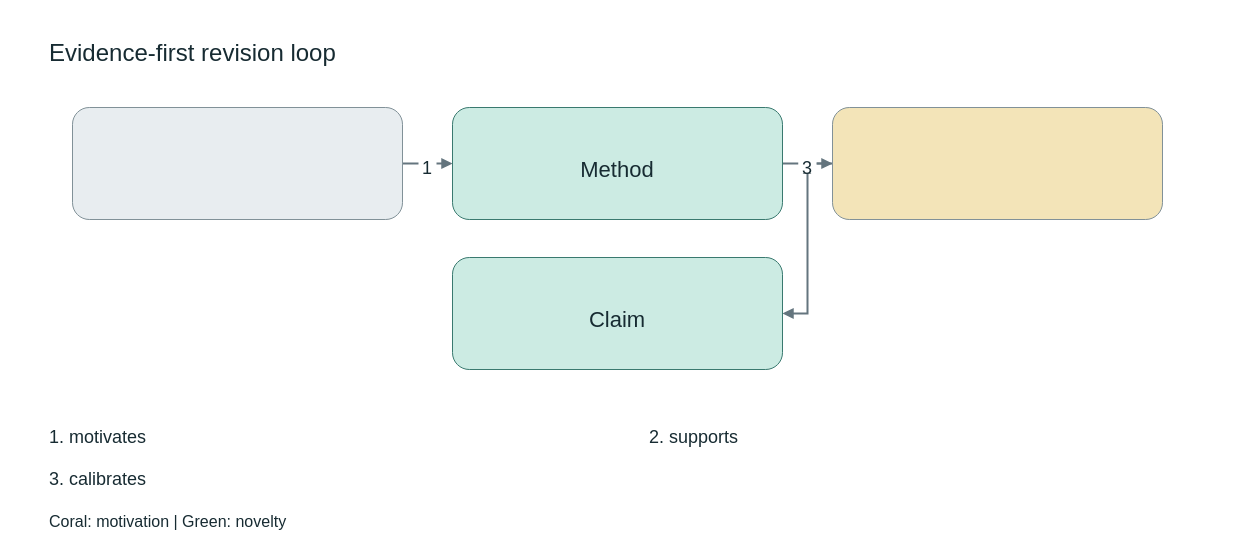
Image size: 1234x558. Some labels were removed from this diagram. The centre of each missing label's shape, as x and y in pixels:
"Evidence" belongs at pixel 997 163.
"Problem" belongs at pixel 237 163.
